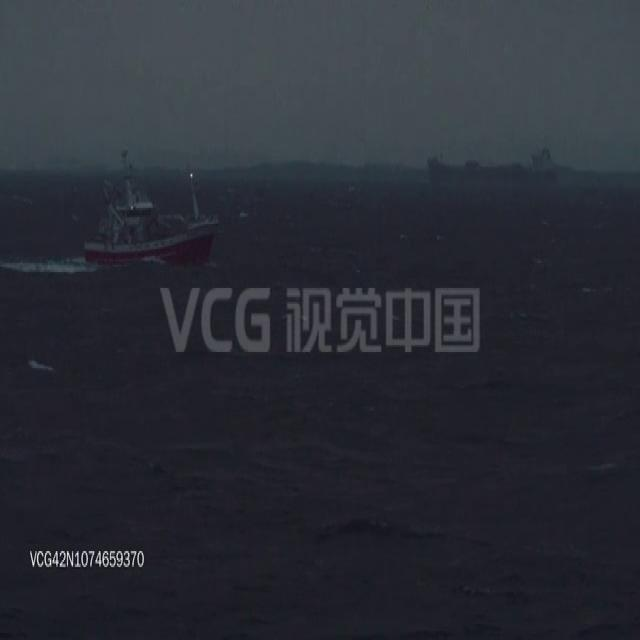houseboat: (81, 162, 219, 262)
